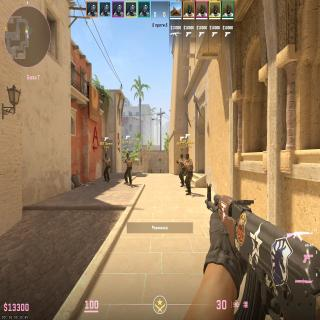T-Body: (184, 154, 193, 195), (178, 154, 186, 187), (124, 153, 132, 185), (102, 153, 110, 183)
T-Head: (186, 153, 189, 159), (126, 153, 129, 157), (105, 153, 107, 157), (181, 154, 183, 158)
